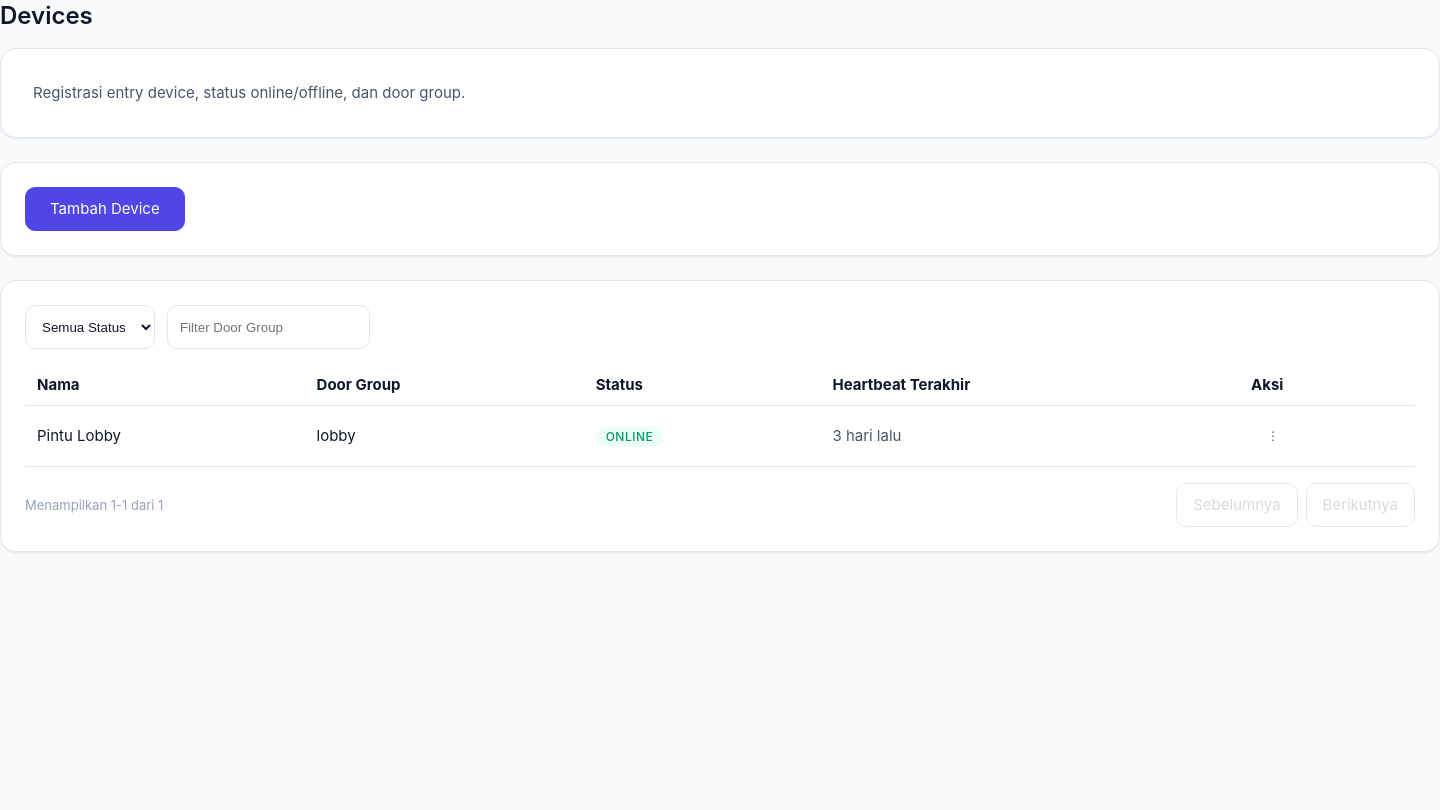
it: DevicesPage — credential bootstrap dialog › shows the credential dialog again after a successful credential rotation
Expected: the text "Pintu Lobby" is shown, [25,406,304,466]
What coordinates should you click on to do the following:
click the button named "Aksi lainnya"
I would click on:
 (1273, 436)
Its box is [1251,414,1295,458].
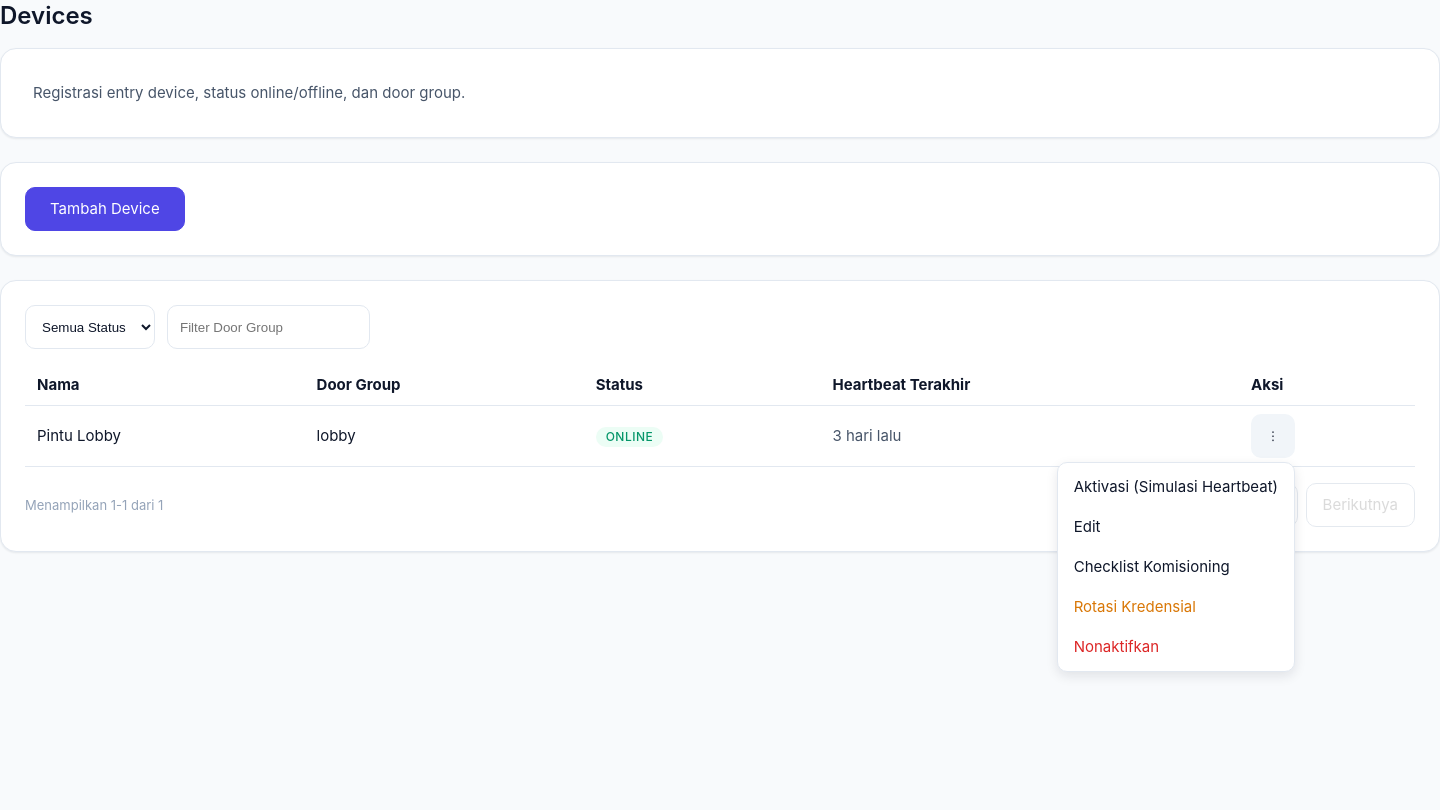
What coordinates should you click on to do the following:
click the menu item "Rotasi Kredensial"
I would click on:
 (1176, 607)
Its box is [1062,587,1290,627].
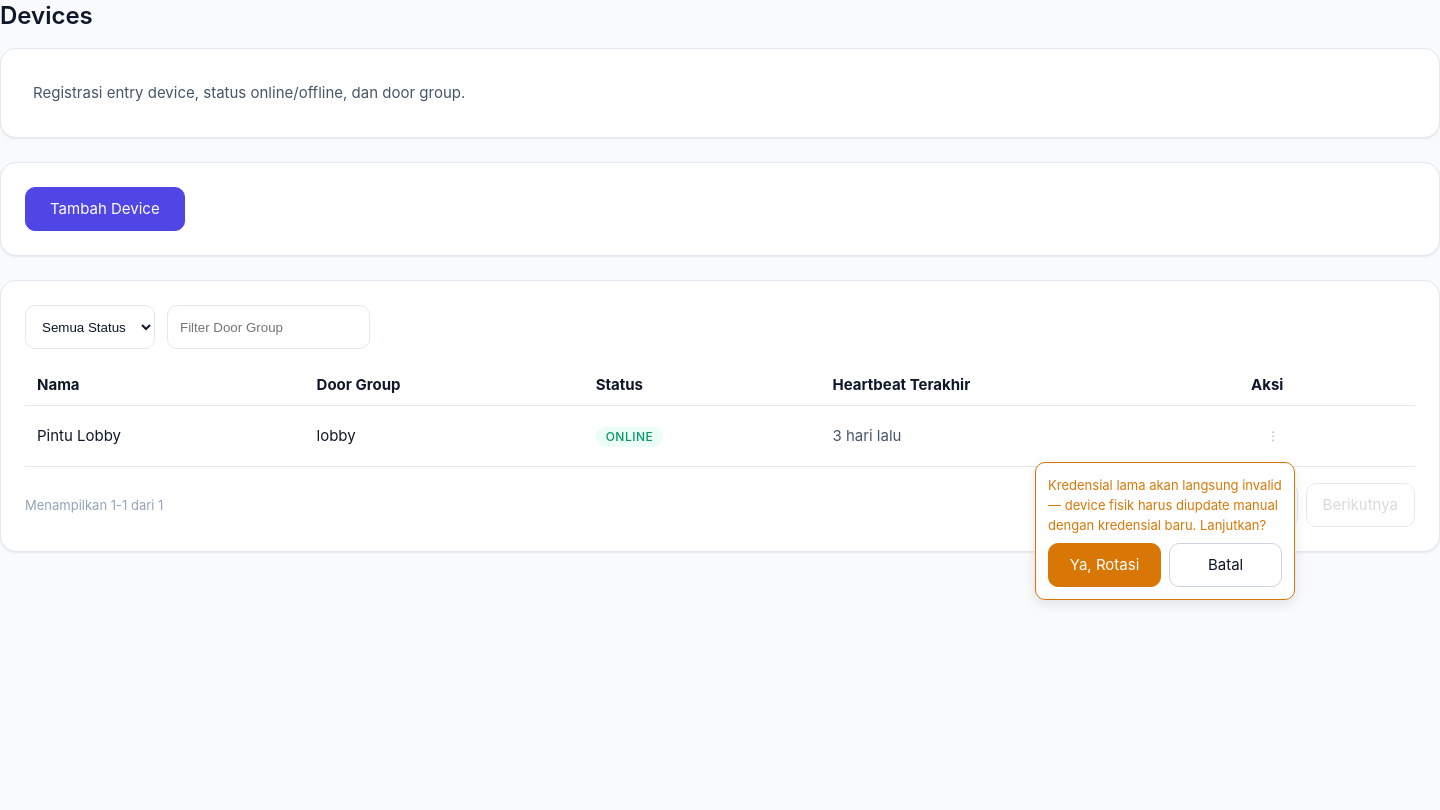
What coordinates should you click on to do the following:
click the button "Ya, Rotasi"
I would click on:
 (1105, 565)
Its box is [1048,543,1161,587].
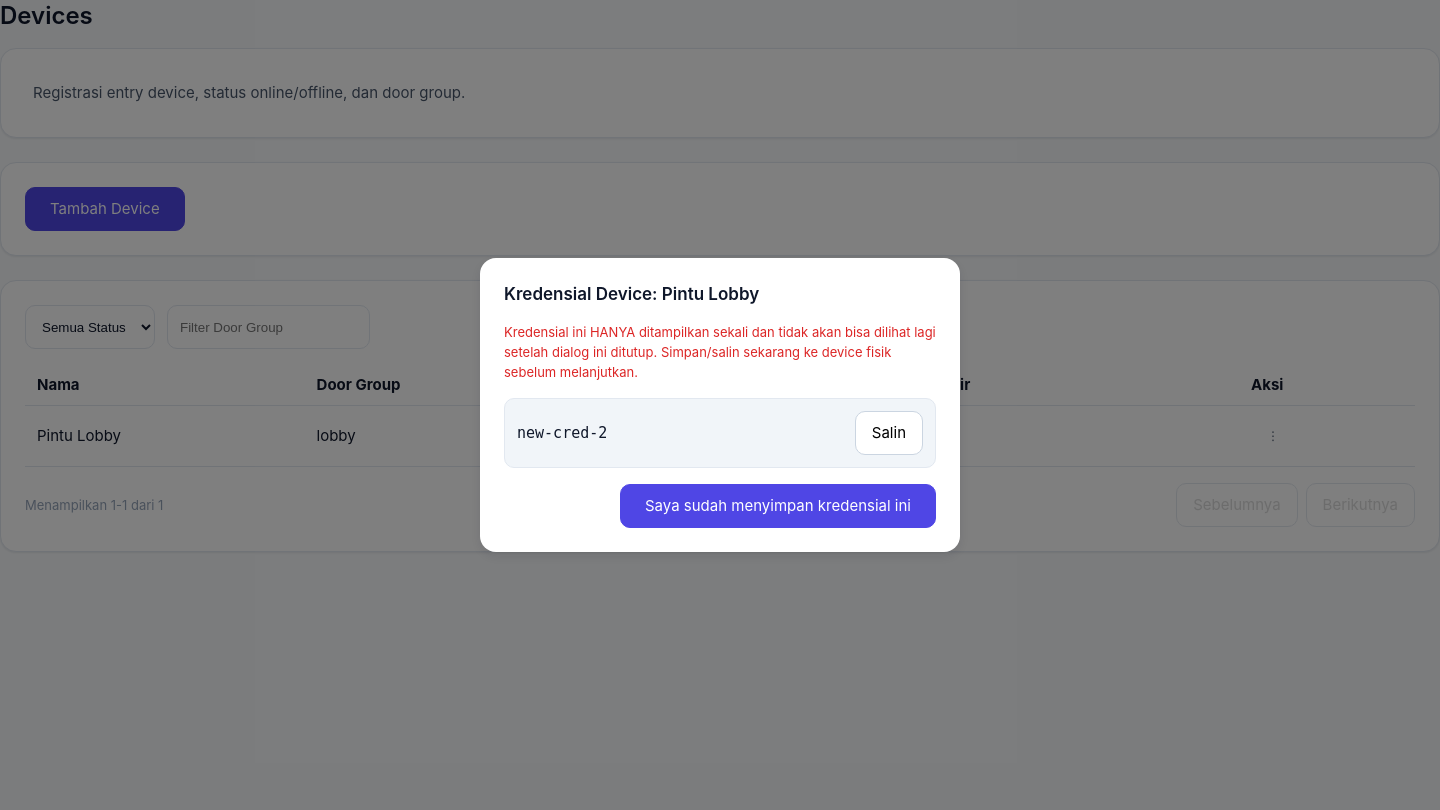
Expected: the text with test id "credential-value" reads "new-cred-2", [517,424,607,442]
